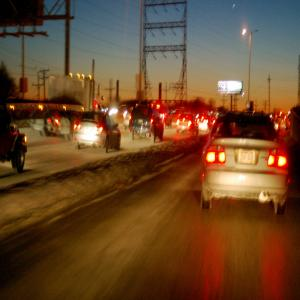Vehicle-registration-plate: (238, 152, 257, 167)
